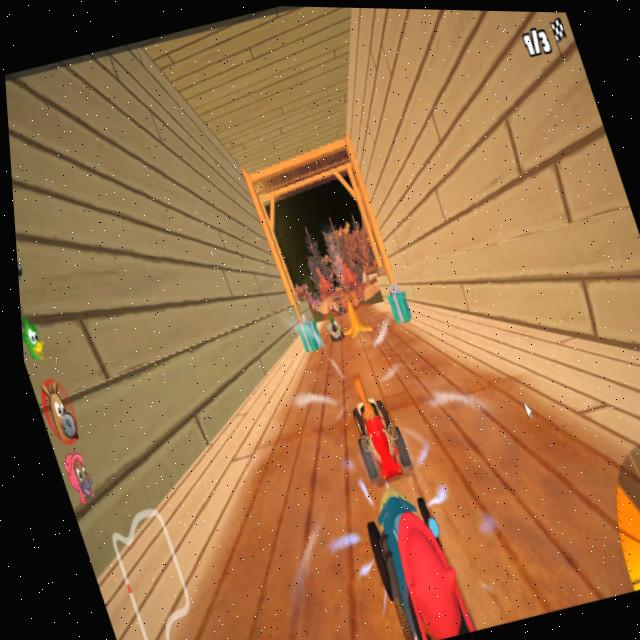bonus: (378, 275, 413, 328), (288, 311, 322, 353)
enemy_kart: (329, 373, 411, 486), (318, 312, 342, 347)
obstacle: (332, 296, 374, 344)
player_kart: (345, 483, 471, 640)
